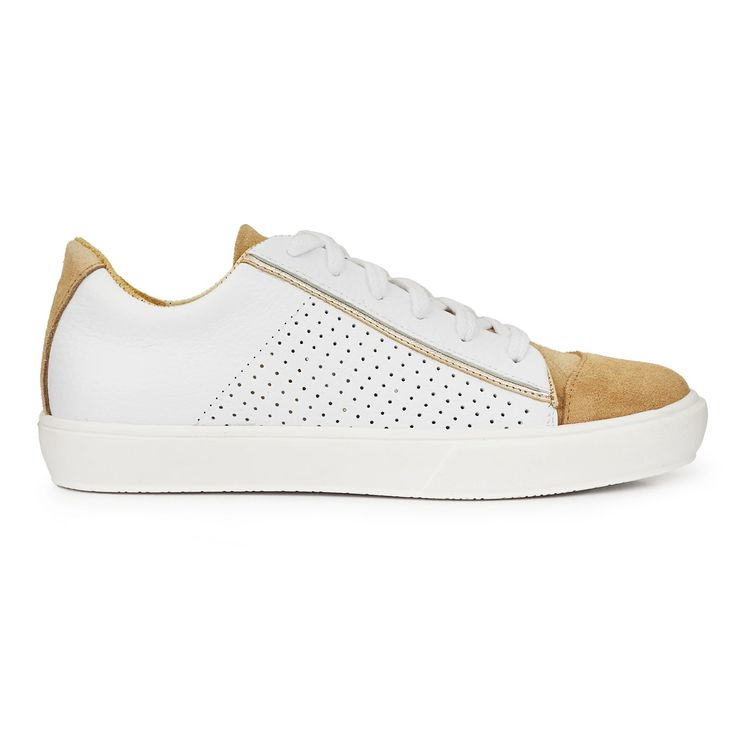gamuza: (557, 347, 692, 424)
